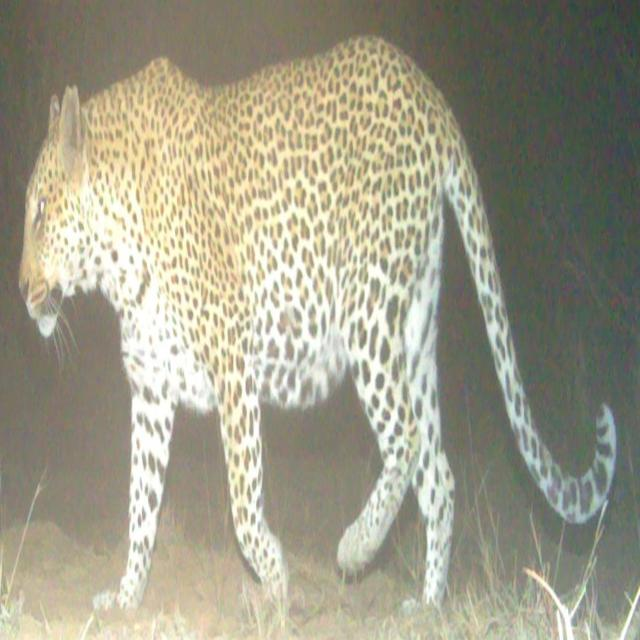Leopard: (10, 45, 638, 640)
